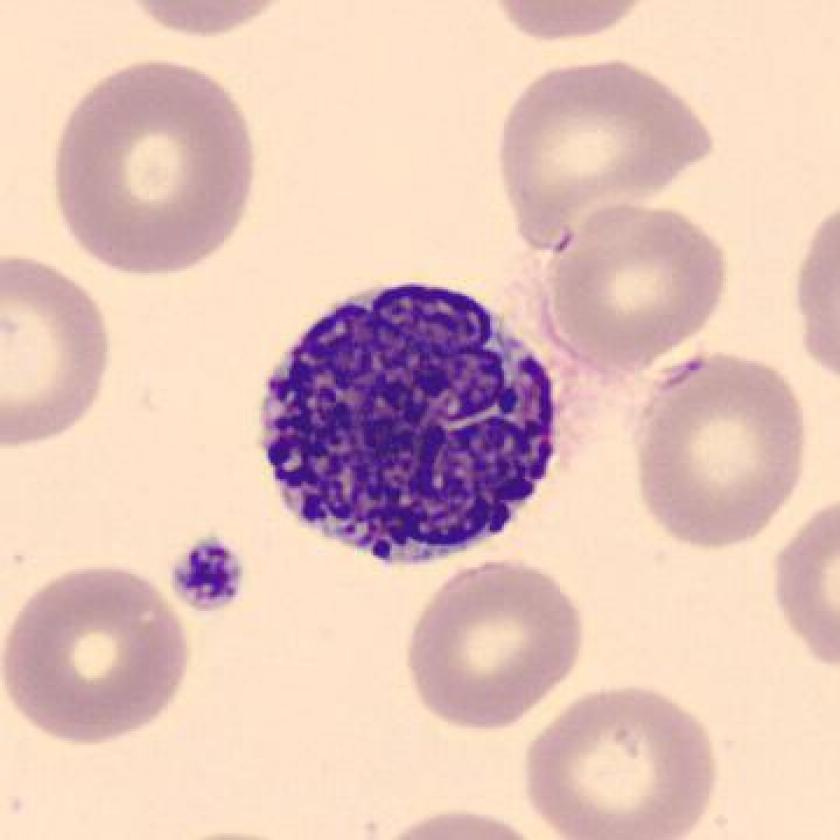basophil: (251, 263, 575, 573)
